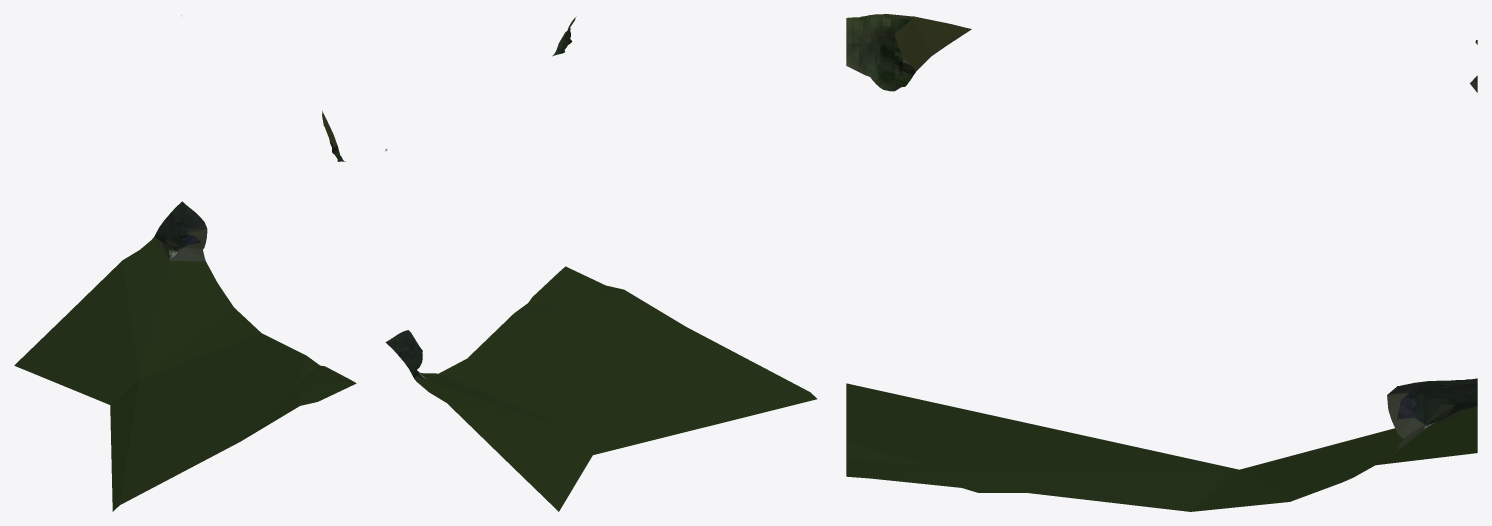
The picture shows the model from 3 angles, left to right: view 1: azimuth 30°, elevation 25°; view 2: azimuth 150°, elevation 25°; view 3: azimuth 270°, elevation 25°; orthographic projection. The views are drawn at different scales.
Bounding box in the file's own units: 1.59 × 1.97 × 1.97.
Materials: 1 (1 with a texture image).
